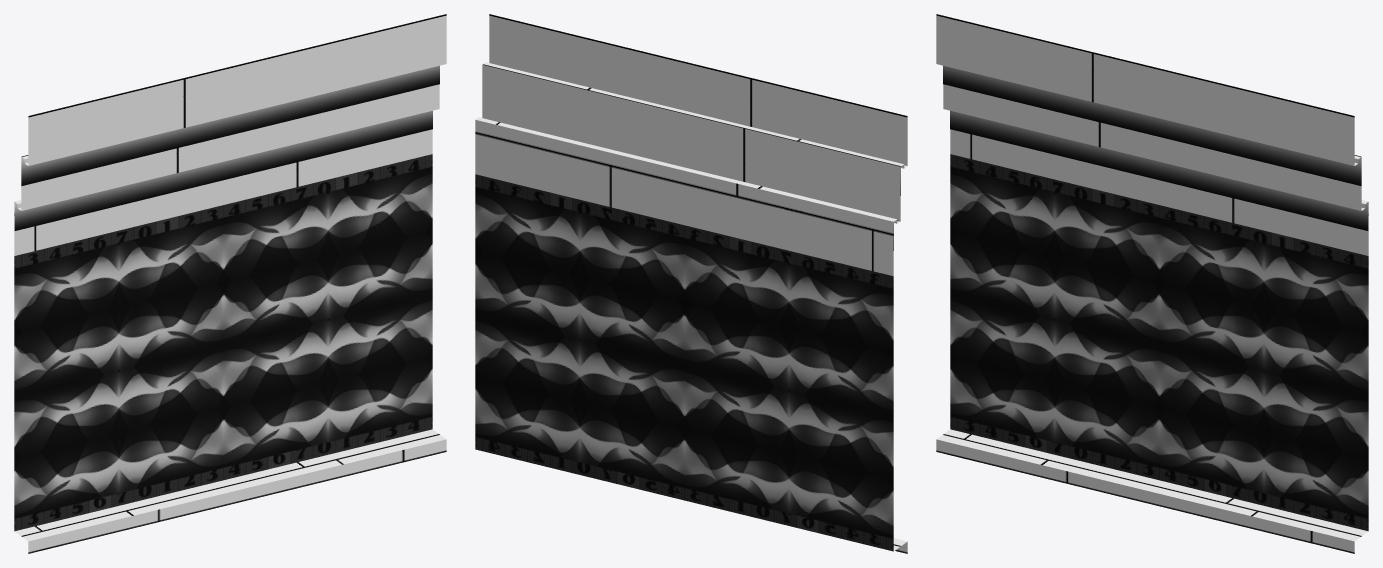
Rendered from WallNiche02_3_350x350cm.FBX.
3 views of the same model, side by side, from view 1: azimuth 30°, elevation 25°; view 2: azimuth 150°, elevation 25°; view 3: azimuth 330°, elevation 25° (orthographic).
Parts seen in each view (by area): view 1: Wall, Backlight; view 2: Wall; view 3: Wall, Backlight.
Boxes of the visible parts, bbox=[...] form: Wall: bbox=[14, 14, 446, 553]; Backlight: bbox=[14, 65, 439, 230]; Wall: bbox=[475, 14, 907, 553]; Wall: bbox=[936, 14, 1368, 553]; Backlight: bbox=[943, 65, 1368, 230].
Bounding box in the file's own units: 350 × 350 × 20.
